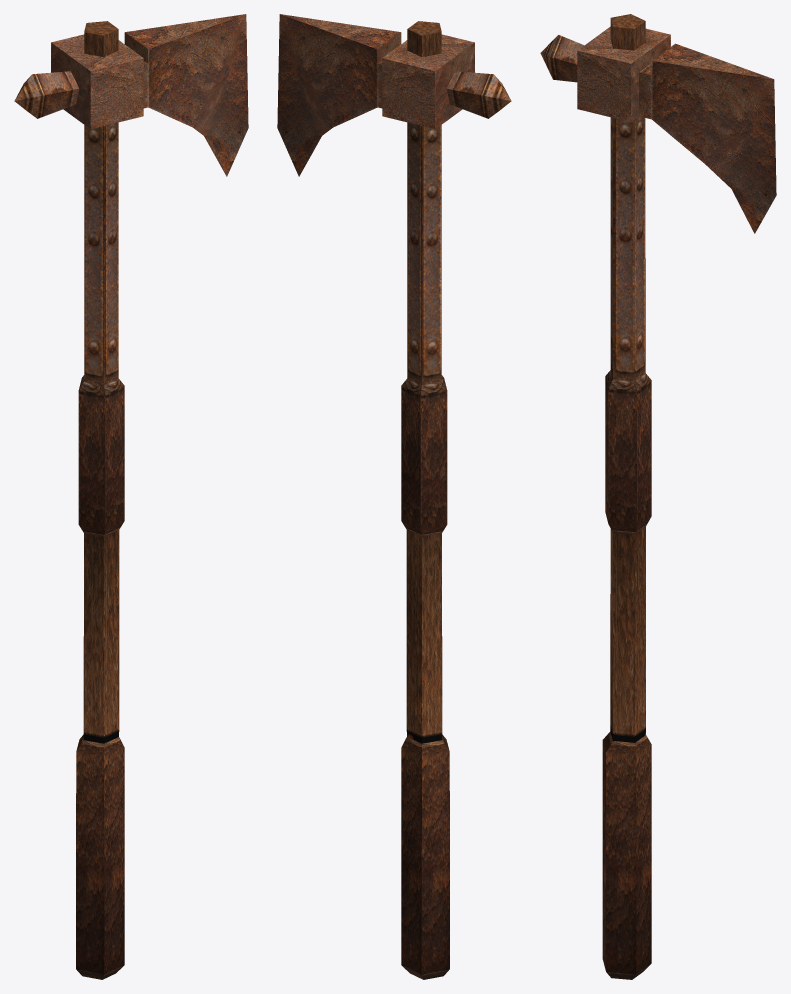
Rendered from mm9_deco_axerusty.glb.
3 renders of one model, left to right at view 1: azimuth 30°, elevation 25°; view 2: azimuth 150°, elevation 25°; view 3: azimuth 330°, elevation 25°, orthographic.
Parts seen in each view (by area): view 1: Axerusty; view 2: Axerusty; view 3: Axerusty.
Boxes of the visible parts, x1,y1,x2,y2 form: Axerusty: (14,14,248,979); Axerusty: (277,14,511,979); Axerusty: (540,14,776,979).
Bounding box in the file's own units: 0.3735 × 1.44 × 0.1088.
1 material, 1 textured.
